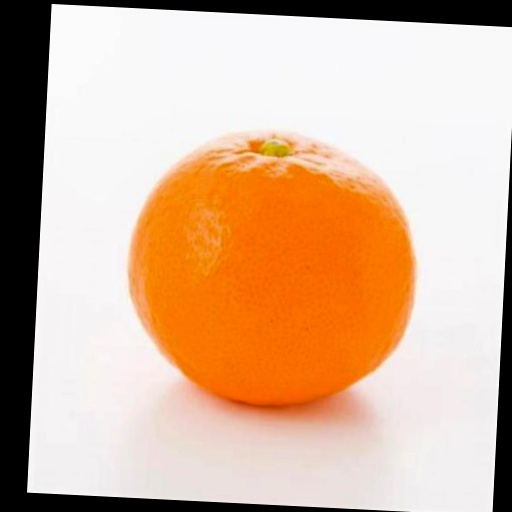fruit: (129, 133, 414, 405)
